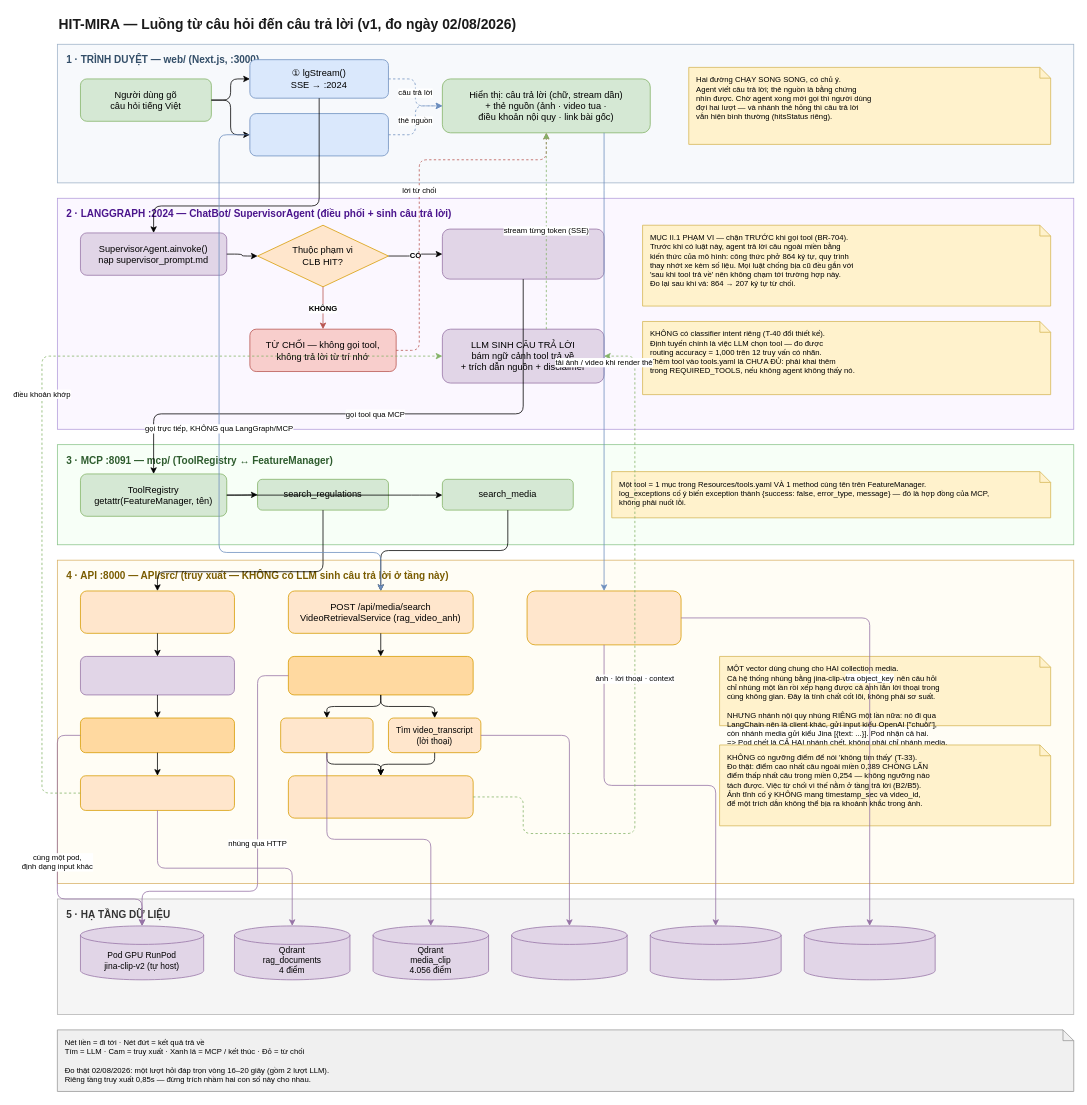
Image size: 1087x1105. Some labels were removed from this diagram. Each missing label, with the centre of its shape:
"GET /api/media-files/* → 307 presigned MinIO (Range 206 → tua video)" belongs at point 603,617.
"Gộp + xếp hạng + dựng chuỗi context kèm source_url và mốc thời gian" belongs at point 380,796.
"LLM CHỌN CÔNG CỤ = bước ĐỊNH TUYẾN (router) REQUIRED_TOOLS = 2 tool" belongs at point 523,253.
"MinIO ảnh · keyframe · video gốc" belongs at point 715,952.
"Nhúng câu hỏi LangChainEmbeddingAdapter" belongs at point 157,735.
"NHÚNG CÂU HỎI — MỘT LẦN embed_query(query)" belongs at point 380,675.
"POST /api/retrieval/search RetrievalService (rag_noiquy)" belongs at point 157,611.
"PostgreSQL media · posts · users" belongs at point 869,952.
"Qdrant video_transcript 248 điểm" belongs at point 569,952.
"Tìm media_clip (ảnh + keyframe)" belongs at point 326,735.
"Tìm rag_documents" belongs at point 157,792.
"VIẾT LẠI TRUY VẤN — gọi LLM bật MẶC ĐỊNH khi đi từ chatbot" belongs at point 157,675.
"② searchMedia() + searchRegulations() gọi THẲNG :8000" belongs at point 318,134.
